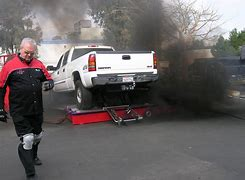smoke: (148, 67, 227, 119)
